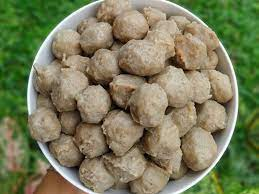bakso: (24, 13, 225, 192)
